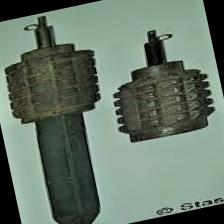POMZ2: (0, 5, 121, 224), (94, 10, 224, 152)
